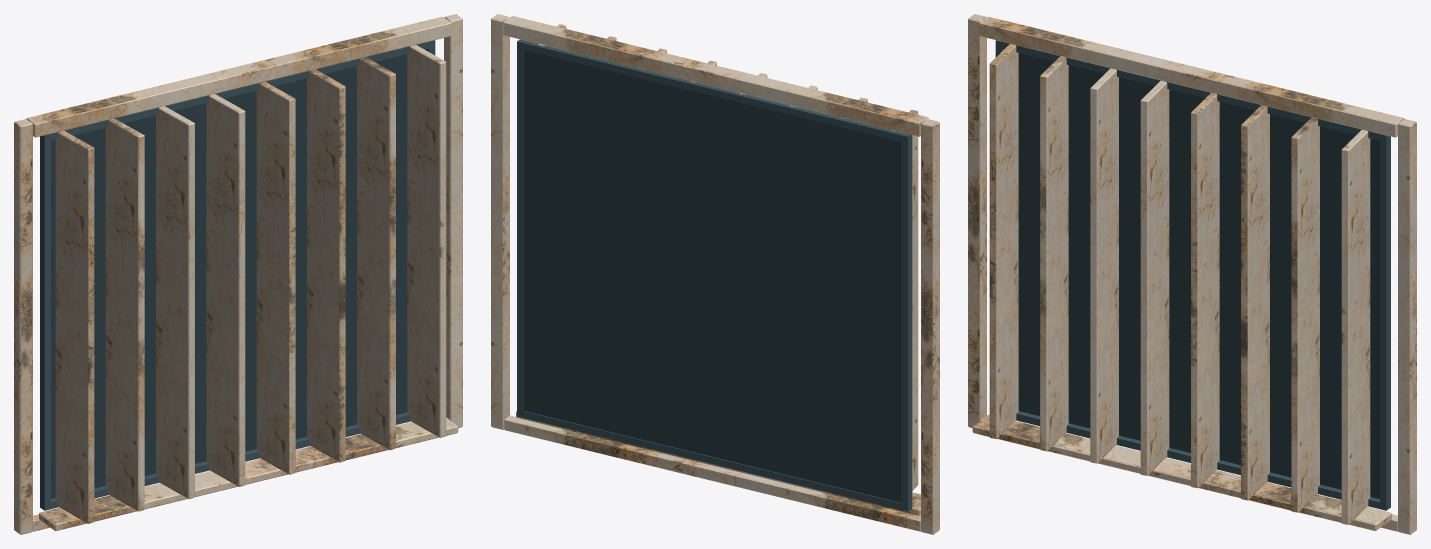
Rendered from facade_louvered_office_upper.glb.
3 renders of one model, left to right at view 1: azimuth 30°, elevation 25°; view 2: azimuth 150°, elevation 25°; view 3: azimuth 330°, elevation 25°, orthographic.
Parts seen in each view (by area): view 1: facade_louvered_office_upper__VVK_concrete_CC0, facade_louvered_office_upper__VVK_dark_glass, facade_louvered_office_upper__VVK_painted_steel; view 2: facade_louvered_office_upper__VVK_dark_glass, facade_louvered_office_upper__VVK_concrete_CC0, facade_louvered_office_upper__VVK_painted_steel; view 3: facade_louvered_office_upper__VVK_concrete_CC0, facade_louvered_office_upper__VVK_dark_glass, facade_louvered_office_upper__VVK_painted_steel.
Boxes of the visible parts, x1,y1,x2,y2 form: facade_louvered_office_upper__VVK_concrete_CC0: (14, 14, 462, 534); facade_louvered_office_upper__VVK_dark_glass: (51, 49, 425, 498); facade_louvered_office_upper__VVK_painted_steel: (40, 40, 435, 510); facade_louvered_office_upper__VVK_dark_glass: (524, 50, 901, 502); facade_louvered_office_upper__VVK_concrete_CC0: (491, 14, 939, 534); facade_louvered_office_upper__VVK_painted_steel: (517, 39, 912, 511); facade_louvered_office_upper__VVK_concrete_CC0: (968, 14, 1416, 534); facade_louvered_office_upper__VVK_dark_glass: (1018, 53, 1379, 498); facade_louvered_office_upper__VVK_painted_steel: (995, 40, 1390, 510).
Bounding box in the file's own units: 3.4 × 3 × 0.4042.
3 materials, 1 textured.
